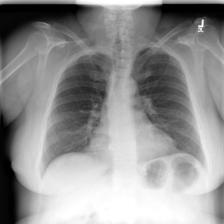normal: (35, 43, 212, 192)
